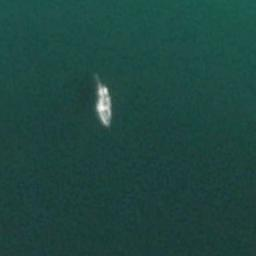boat: (93, 80, 115, 130)
